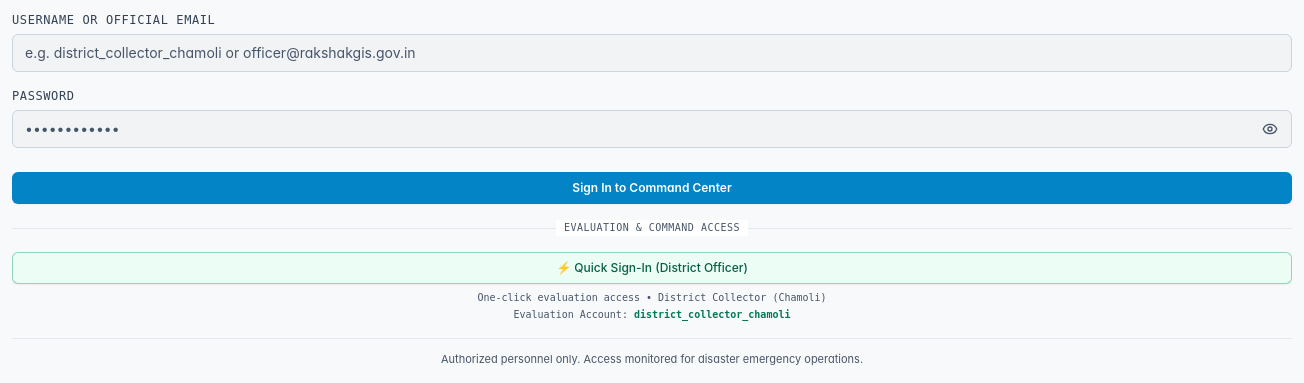
it: LoginForm Component › has password hidden by default, toggles visibility on button click, preserves password value, and updates accessible label
expect the button named "Show password" is shown: met, box [1258,117,1282,141]
Type a password
Type "SecretPass987!" into the password field labelled "Password" at (652, 129), box [12,110,1292,148]
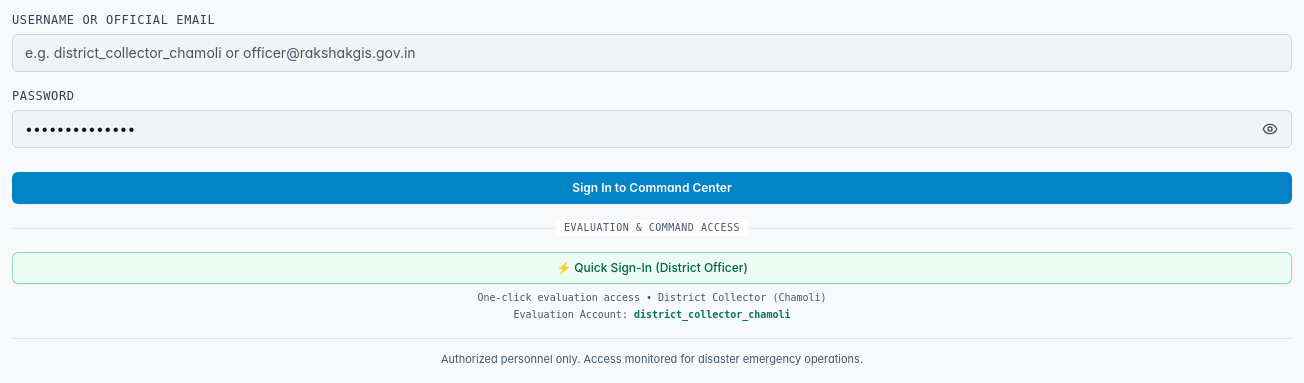
Click show password
Click the button named "Show password" at (1270, 129), box [1258,117,1282,141]
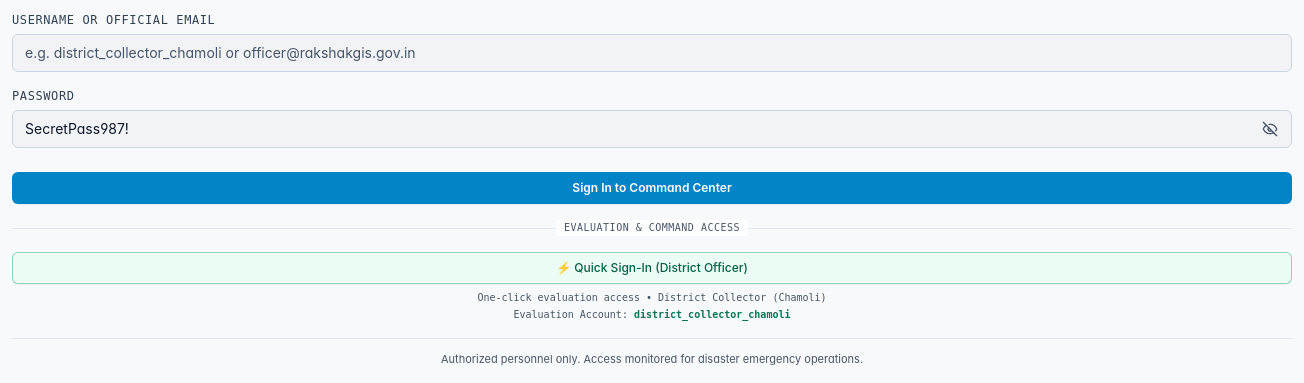
expect the button named "Hide password" is shown: met
Click hide password
Click the button named "Hide password" at (1270, 129), box [1258,117,1282,141]
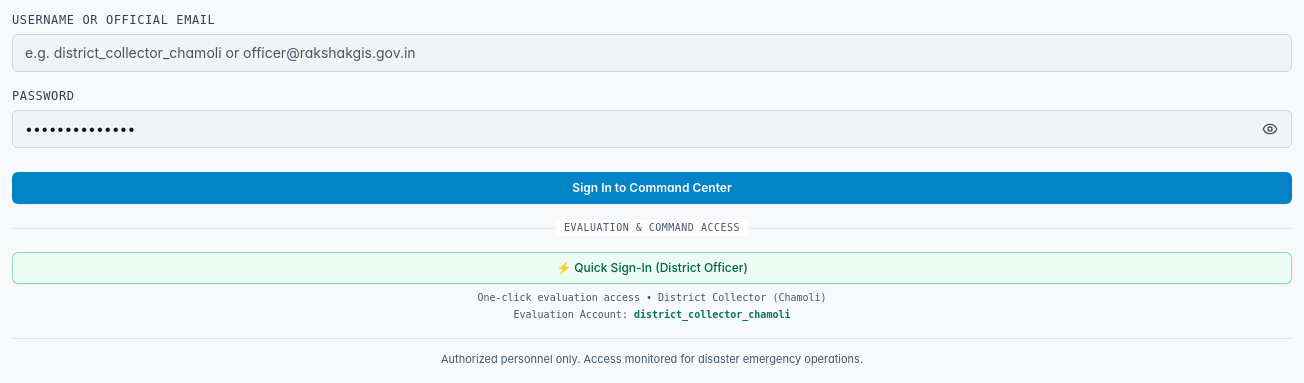
expect the button named "Show password" is shown: met, box [1258,117,1282,141]
